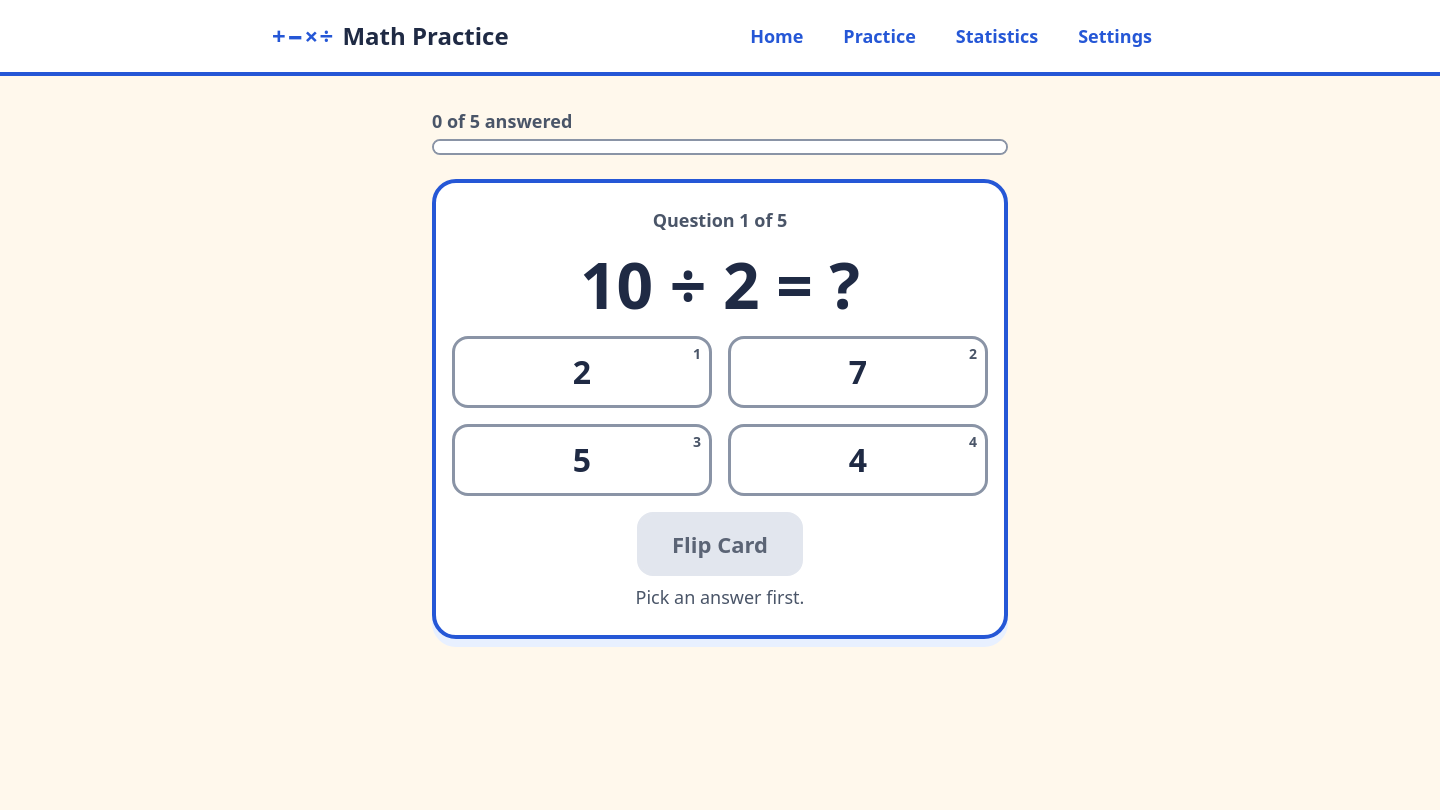
Scenario: recording results › counts a double click as one attempt
Click the button "5 3": [582, 460] box top-left (452, 424), bottom-right (712, 496)
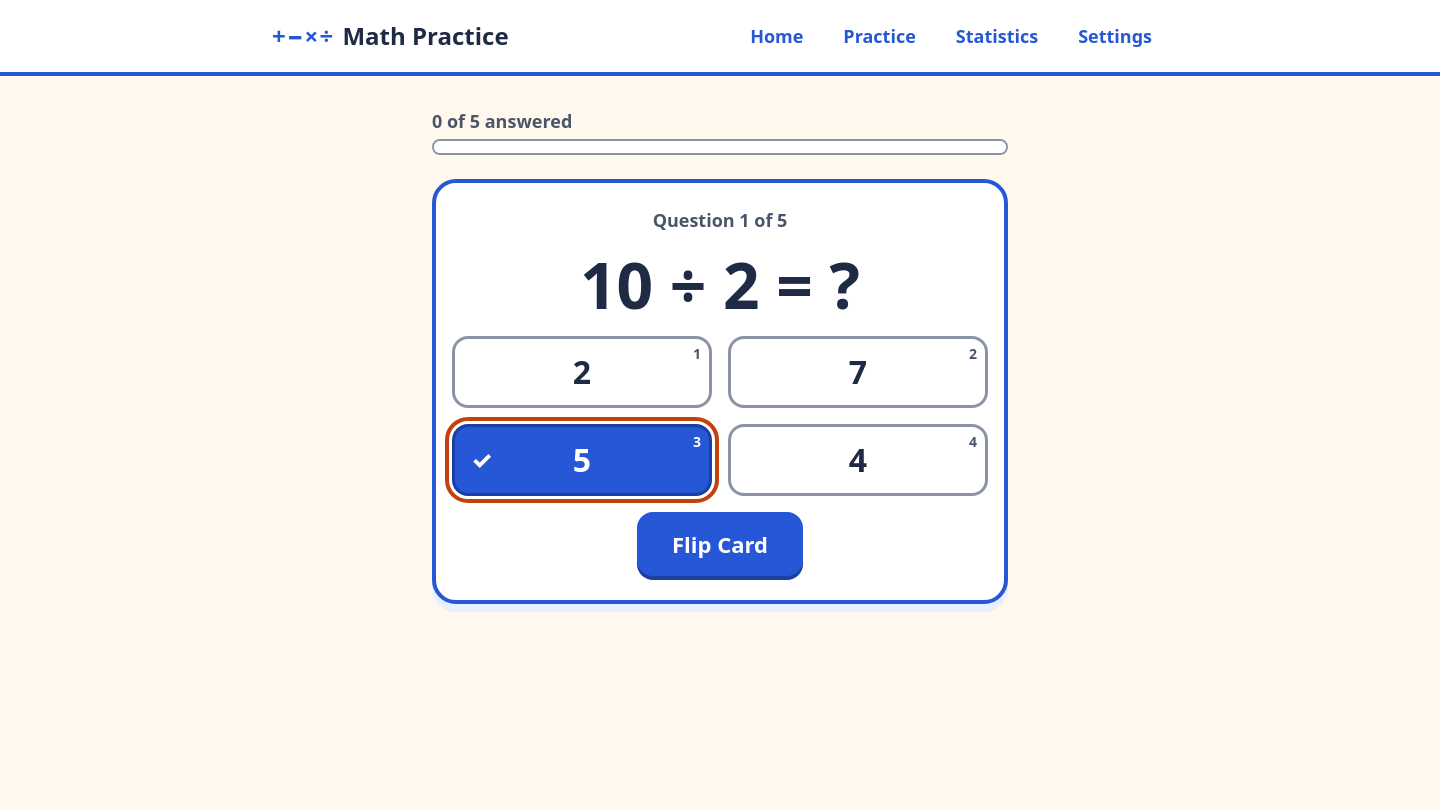
Click the button "Flip Card": [720, 544] box top-left (637, 512), bottom-right (803, 576)
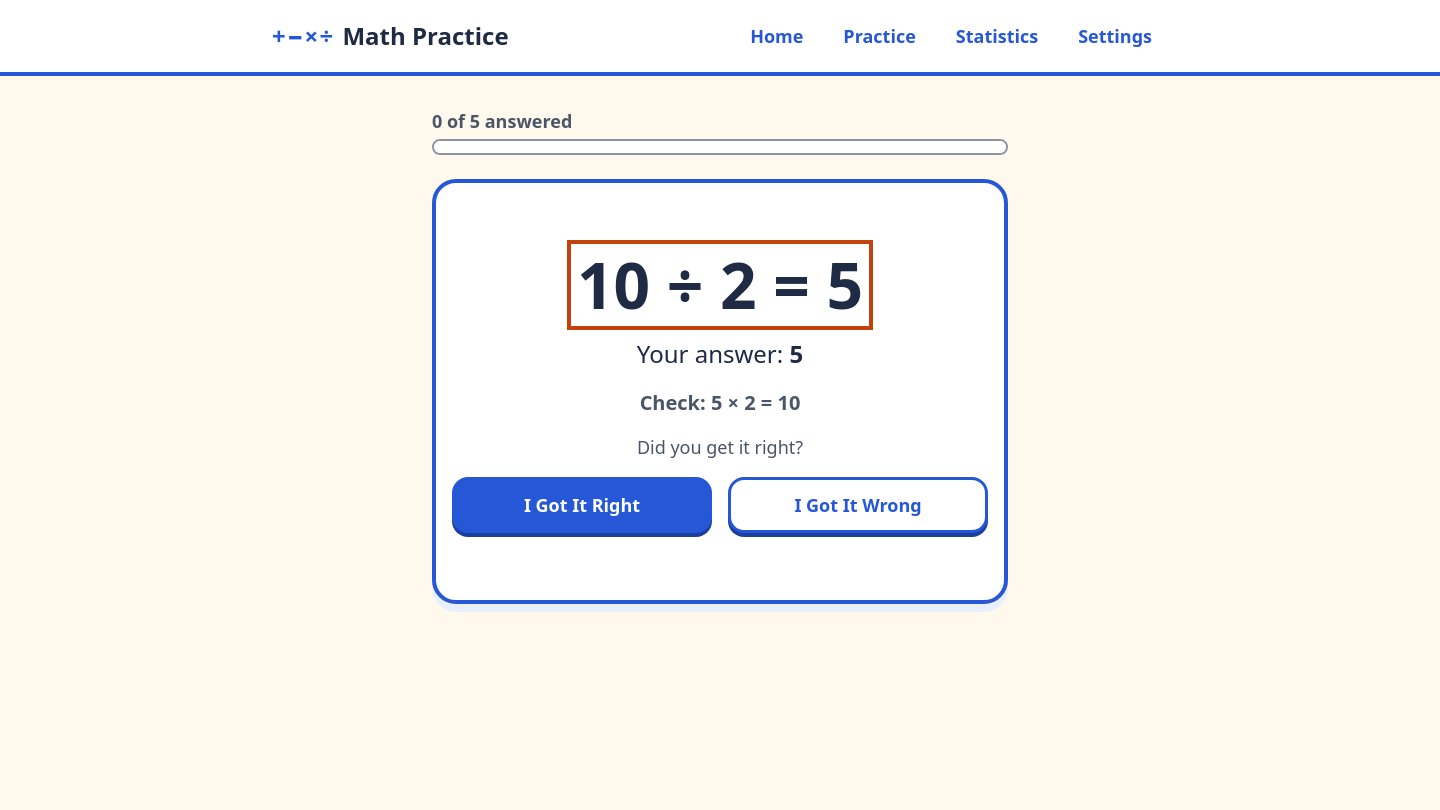
Double-click the button "I Got It Right": [582, 505] box top-left (452, 477), bottom-right (712, 533)
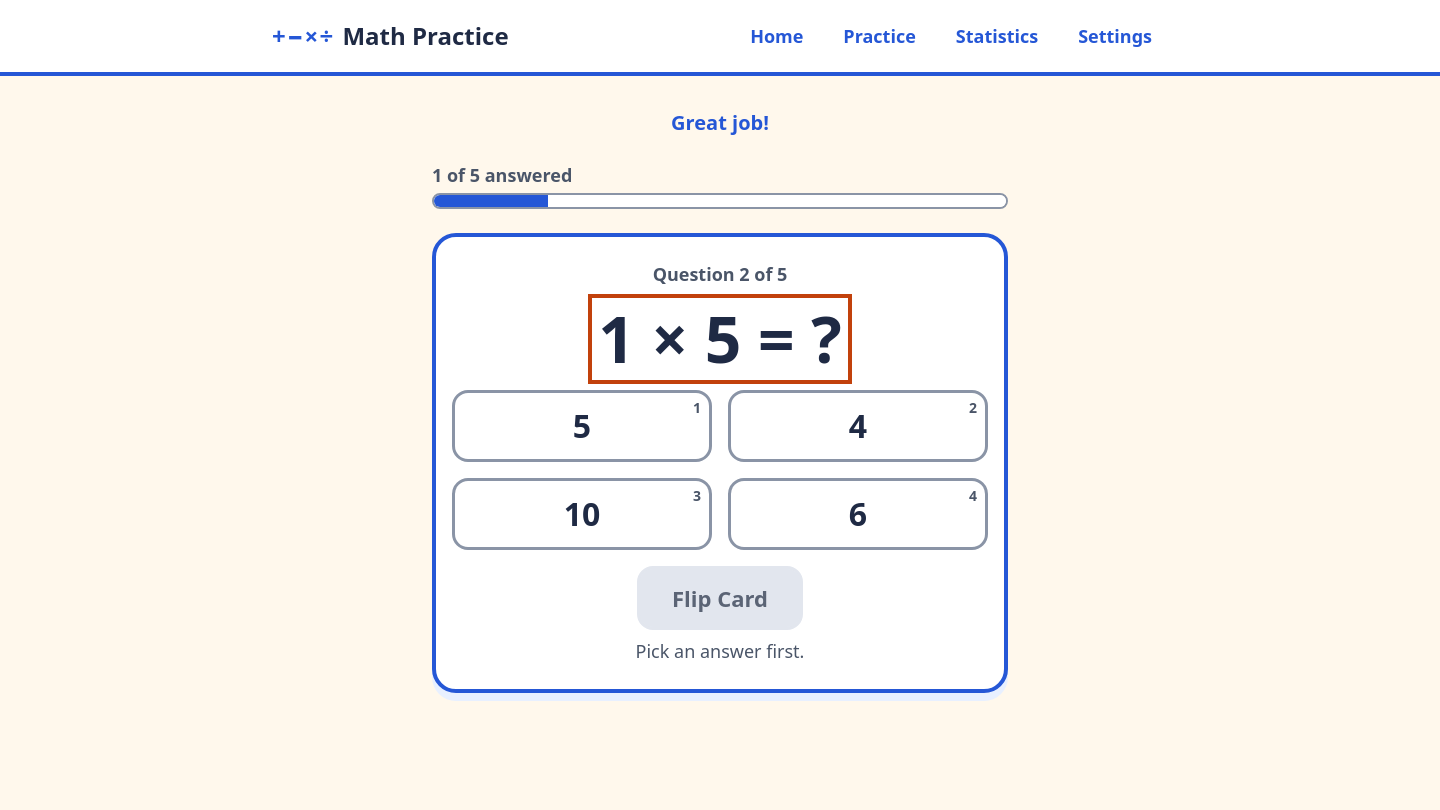
Expected: the label with class "session-progress__label" reads "1 of 5 answered", top-left (432, 163), bottom-right (572, 187)
Expected: the text "Question 2 of 5" is shown, top-left (653, 261), bottom-right (787, 288)
